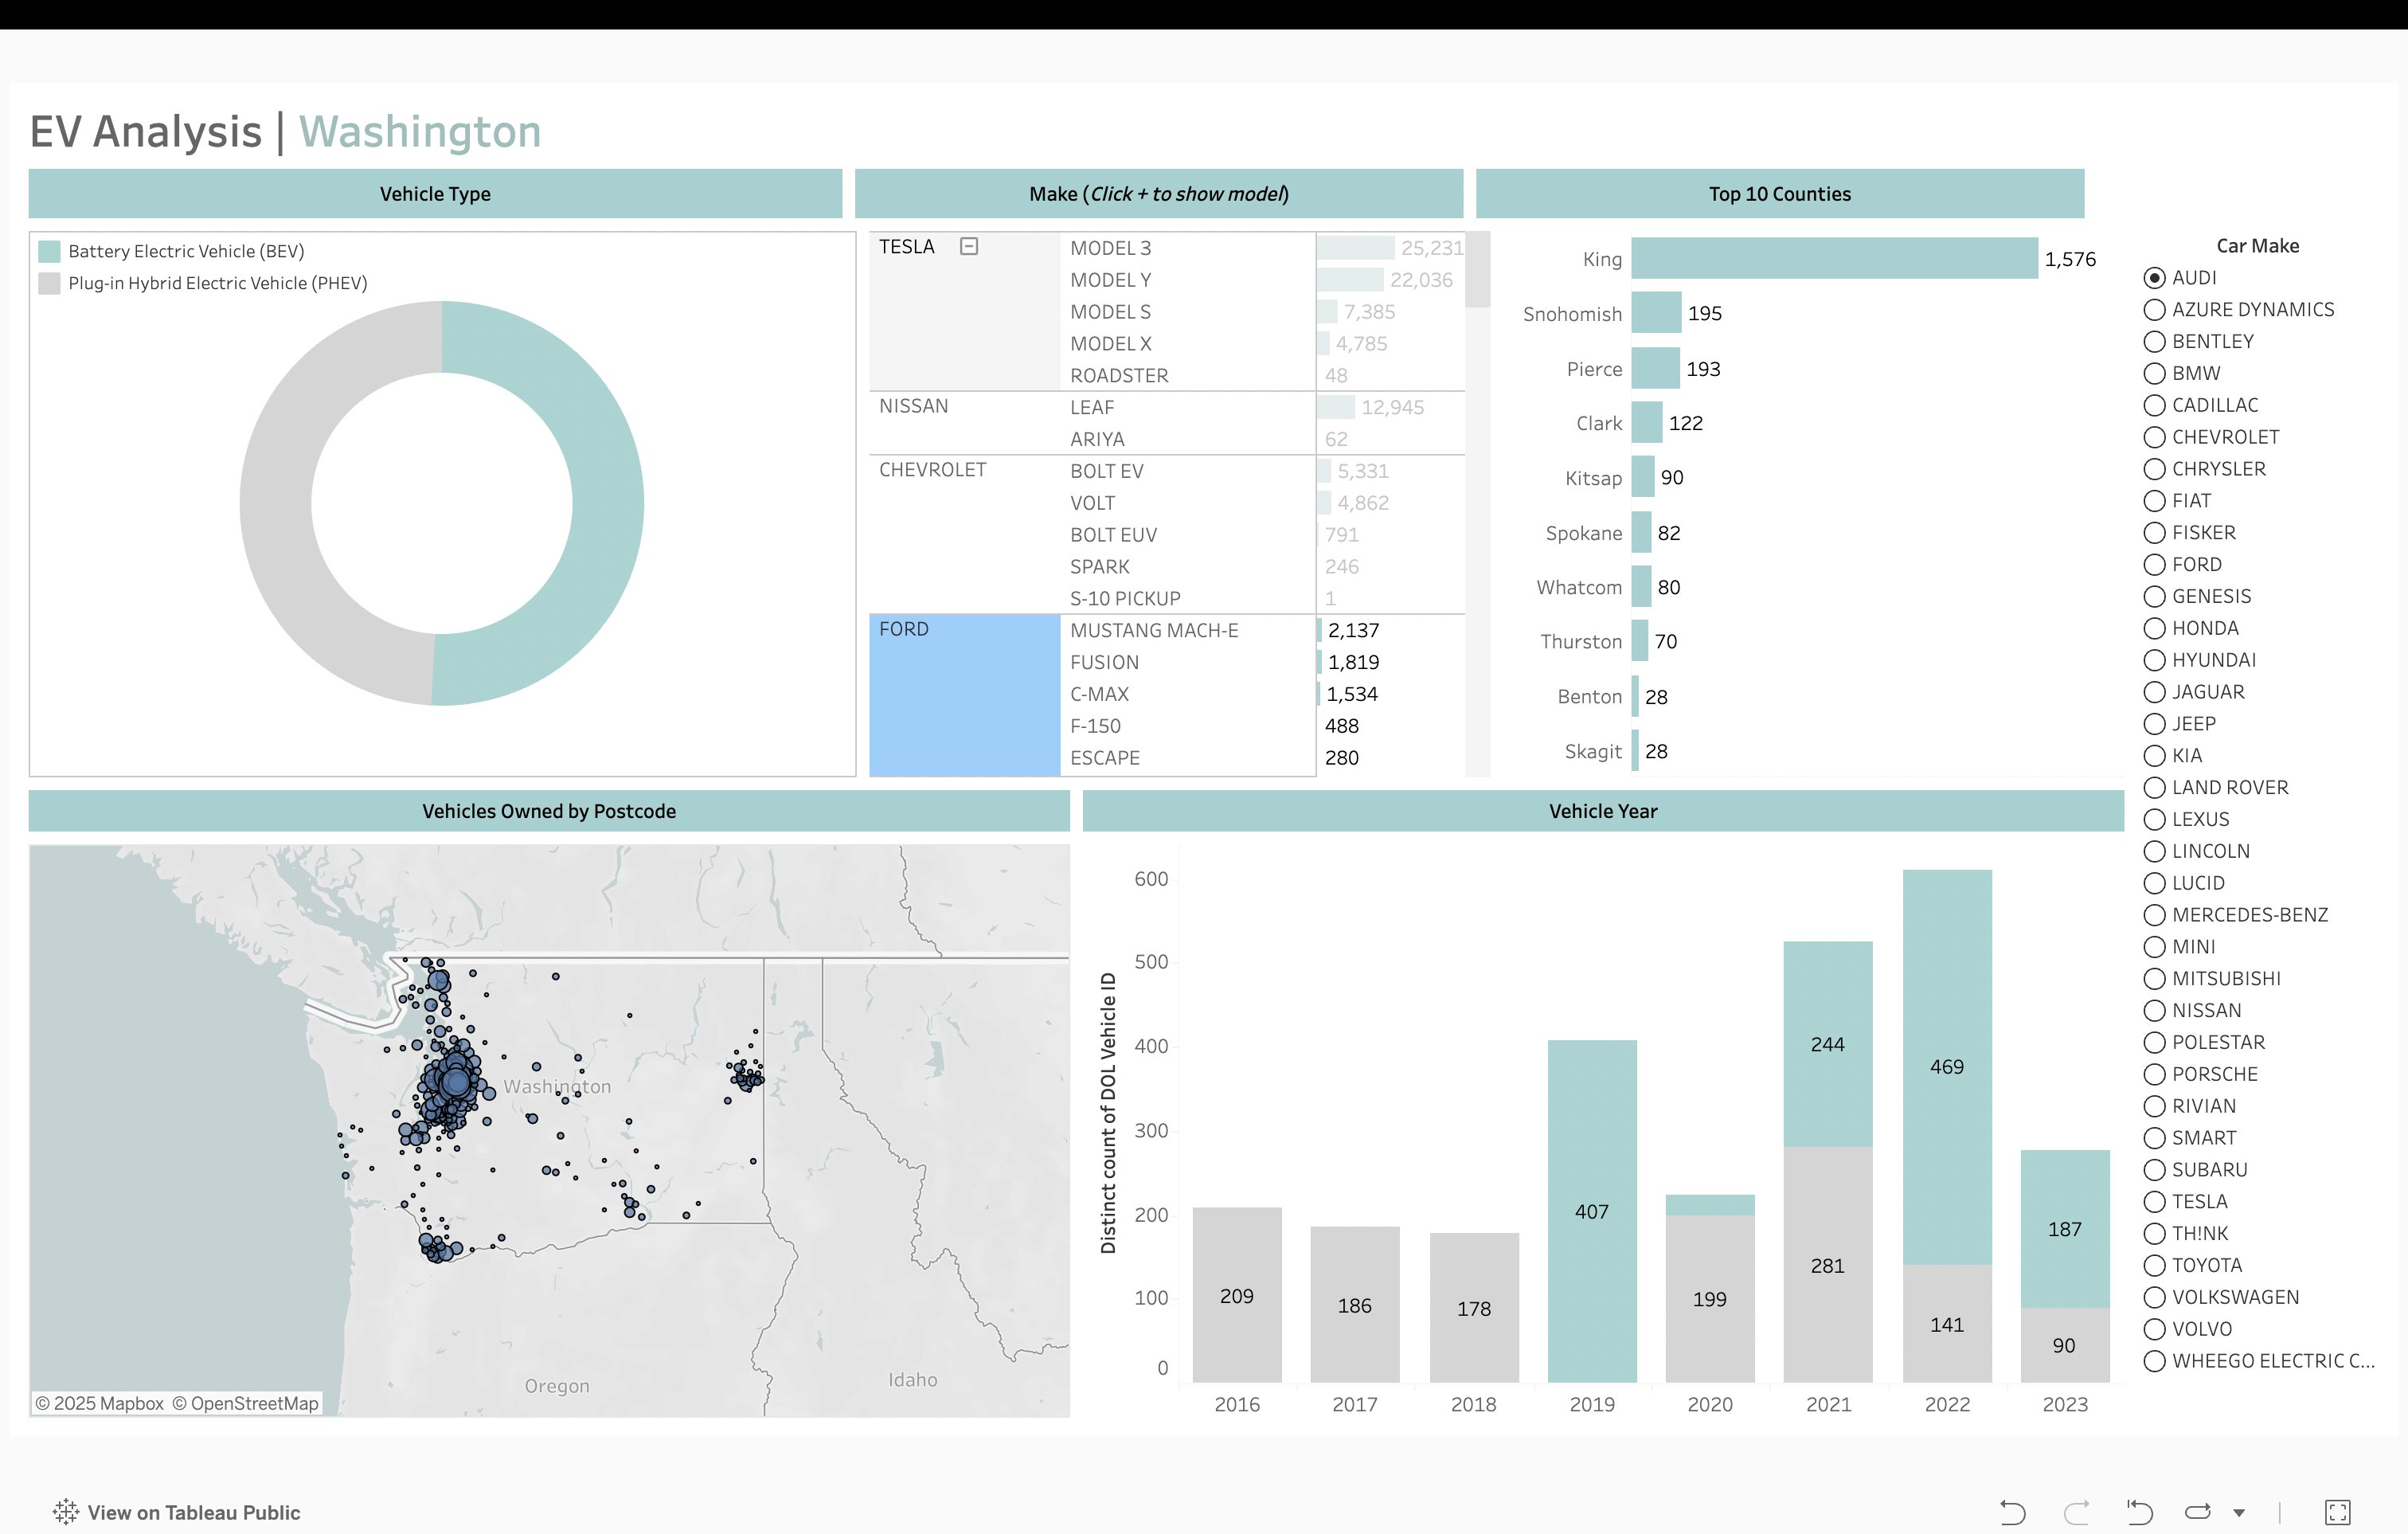

Layout of this report page (visuals, bound fields, positions):
{"tool":"tableau","page":{"name":"Dashboard 1","canvas":[1500,850],"ordinal":0},"visuals":[{"type":"text","box":[8,8,1484,42.3]},{"type":"text","box":[8,50.3,518.5,39.1]},{"type":"text","box":[526.5,50.3,390.3,39.1]},{"type":"text","box":[916.8,50.3,390.3,39.1]},{"type":"worksheet","title":"Vehicle Type","mark":"Pie","rows":["Calculation_761038007935266818","Calculation_761038007935266818"],"box":[8,89,528,351]},{"type":"worksheet","title":"Make and Model","mark":"Automatic","rows":["Make","Model"],"cols":["DOL Vehicle ID"],"box":[536.4,89.4,397.8,350.6]},{"type":"worksheet","title":"Top 10 Counties","mark":"Automatic","rows":["County"],"cols":["DOL Vehicle ID"],"box":[934.2,89.4,397.8,350.6]},{"type":"parameter","param":"[Parameters].[Parameter 1]","box":[1332,89.4,160,697]},{"type":"legend","title":"Vehicle Type","param":"[federated.117ffmk1945jlb12zr7k11d7nbze].[none:Electric Vehicle Type:nk]","box":[15,96.5,239.8,42.3]},{"type":"text","box":[8,440.1,662,33.5]},{"type":"text","box":[670,440.1,662,33.5]},{"type":"worksheet","title":"Map","mark":"Automatic","box":[8,473.6,662,368.4]},{"type":"worksheet","title":"Year and Type","mark":"Bar","rows":["DOL Vehicle ID"],"cols":["Model Year"],"box":[670,473.6,662,368.4]}]}

Visuals, with their boxes on the page's 1500x850 design canvas (x1, y1, x2, y2). These are canvas units, not pixel positions in the 2408x1534 screenshot, which may show the page scaled, cropped or inside an application window:
text: bbox=(8, 8, 1492, 50)
text: bbox=(8, 50, 526, 89)
text: bbox=(526, 50, 917, 89)
text: bbox=(917, 50, 1307, 89)
"Vehicle Type" worksheet (Pie marks): bbox=(8, 89, 536, 440)
"Make and Model" worksheet: bbox=(536, 89, 934, 440)
"Top 10 Counties" worksheet: bbox=(934, 89, 1332, 440)
parameter: bbox=(1332, 89, 1492, 786)
"Vehicle Type" legend: bbox=(15, 96, 255, 139)
text: bbox=(8, 440, 670, 474)
text: bbox=(670, 440, 1332, 474)
"Map" worksheet: bbox=(8, 474, 670, 842)
"Year and Type" worksheet (Bar marks): bbox=(670, 474, 1332, 842)
